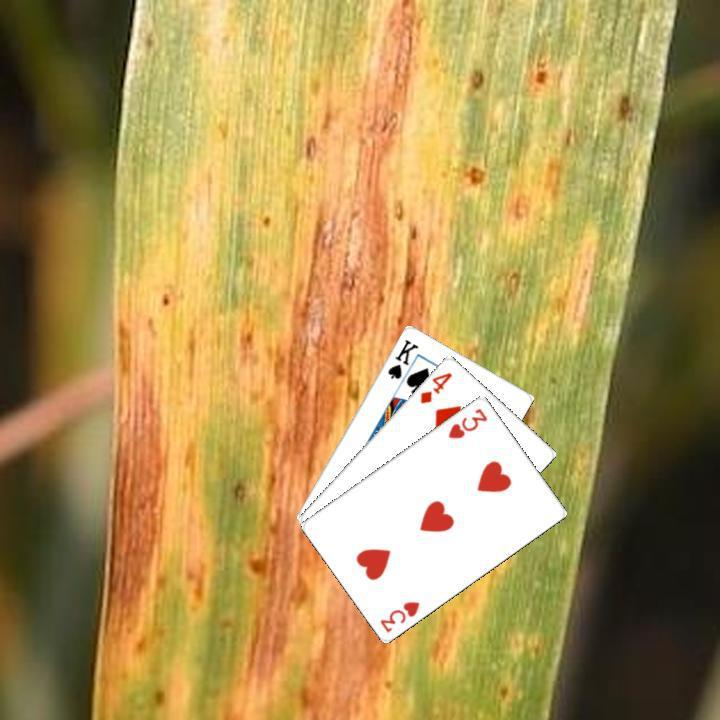3: (444, 403, 490, 441), (376, 596, 422, 634)
4: (416, 367, 454, 405)
K: (383, 334, 420, 381)
